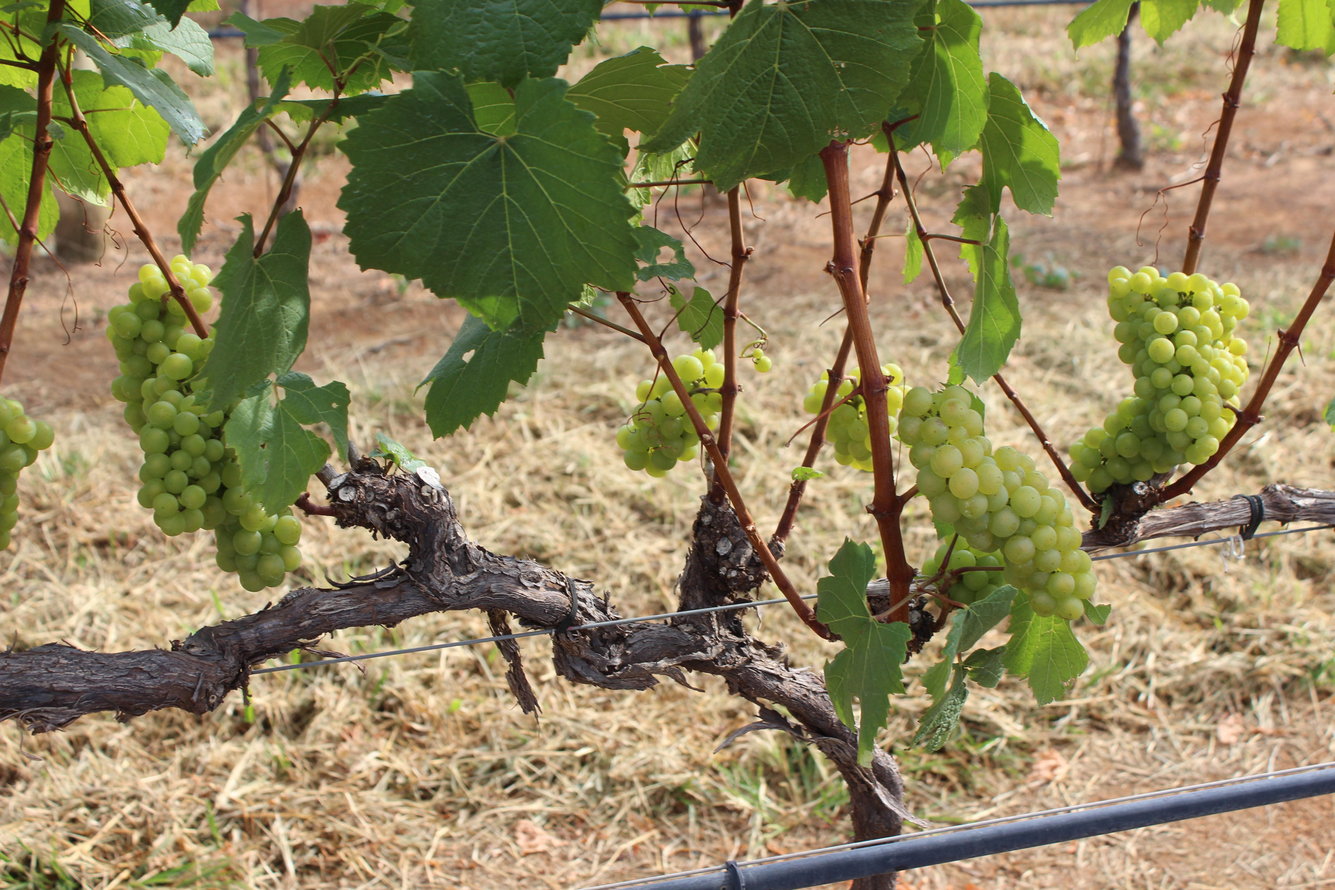leaf: (338, 72, 638, 331), (644, 0, 922, 190), (202, 209, 311, 408), (818, 539, 911, 765), (177, 70, 289, 255), (58, 22, 207, 145), (224, 373, 349, 514), (411, 0, 602, 88), (419, 315, 545, 438), (904, 0, 989, 165), (567, 46, 690, 140), (981, 72, 1060, 215), (955, 216, 1021, 382), (1005, 592, 1087, 704), (911, 665, 968, 750), (634, 224, 695, 281), (669, 286, 723, 349), (1067, 0, 1134, 49), (1276, 0, 1335, 54), (1140, 0, 1198, 46), (962, 646, 1005, 688), (903, 217, 924, 284), (1083, 600, 1111, 625), (943, 662, 950, 675), (317, 467, 318, 468), (322, 458, 323, 459), (475, 100, 475, 102)
